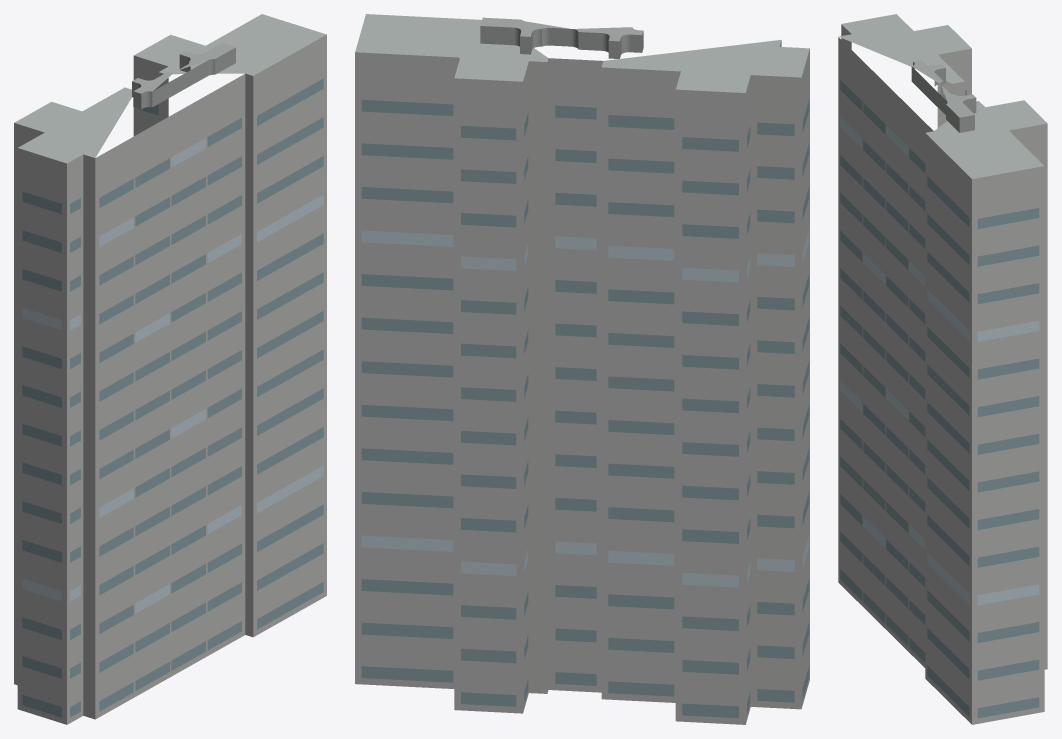
Rendered from fallback-raemian-la-classy-105.glb.
The picture shows the model from 3 angles, left to right: view 1: azimuth 30°, elevation 25°; view 2: azimuth 150°, elevation 25°; view 3: azimuth 270°, elevation 25°; orthographic projection. The views are drawn at different scales.
Parts seen in each view (by area): view 1: fallback-raemian-la-classy-105; view 2: fallback-raemian-la-classy-105; view 3: fallback-raemian-la-classy-105.
Part boxes in pixels (x1,y1,x2,y2): fallback-raemian-la-classy-105: (14, 14, 326, 724); fallback-raemian-la-classy-105: (355, 14, 809, 724); fallback-raemian-la-classy-105: (838, 14, 1047, 724).
Size of the model in its own units: 55.56 by 88 by 29.78.
